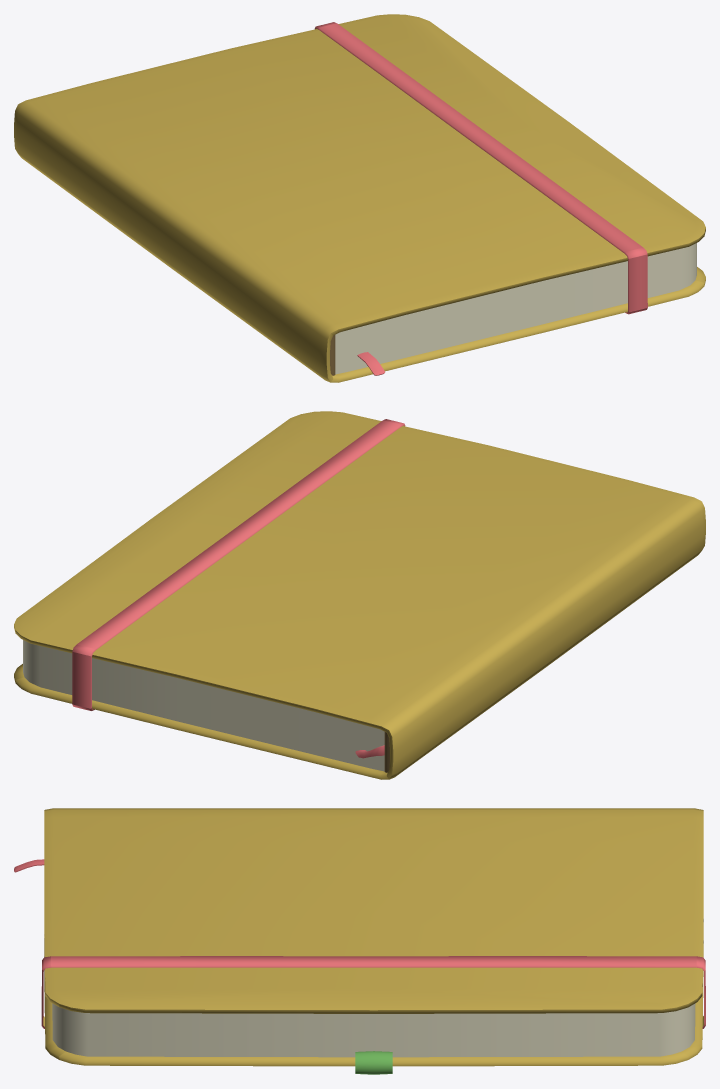
3 renders of one model, top to bottom at view 1: azimuth 30°, elevation 25°; view 2: azimuth 150°, elevation 25°; view 3: azimuth 270°, elevation 25°, orthographic. The views are drawn at different scales.
Parts seen in each view (by area): view 1: leather_notebook.001; view 2: leather_notebook.001; view 3: leather_notebook.001.
Part boxes in pixels (box(x1,y1,x2,y2)): leather_notebook.001: box(14, 14, 705, 382); leather_notebook.001: box(14, 411, 705, 779); leather_notebook.001: box(14, 808, 705, 1074).
Size of the model in its own units: 1577 by 221 by 2136.
